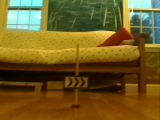right: (63, 75, 90, 89)
